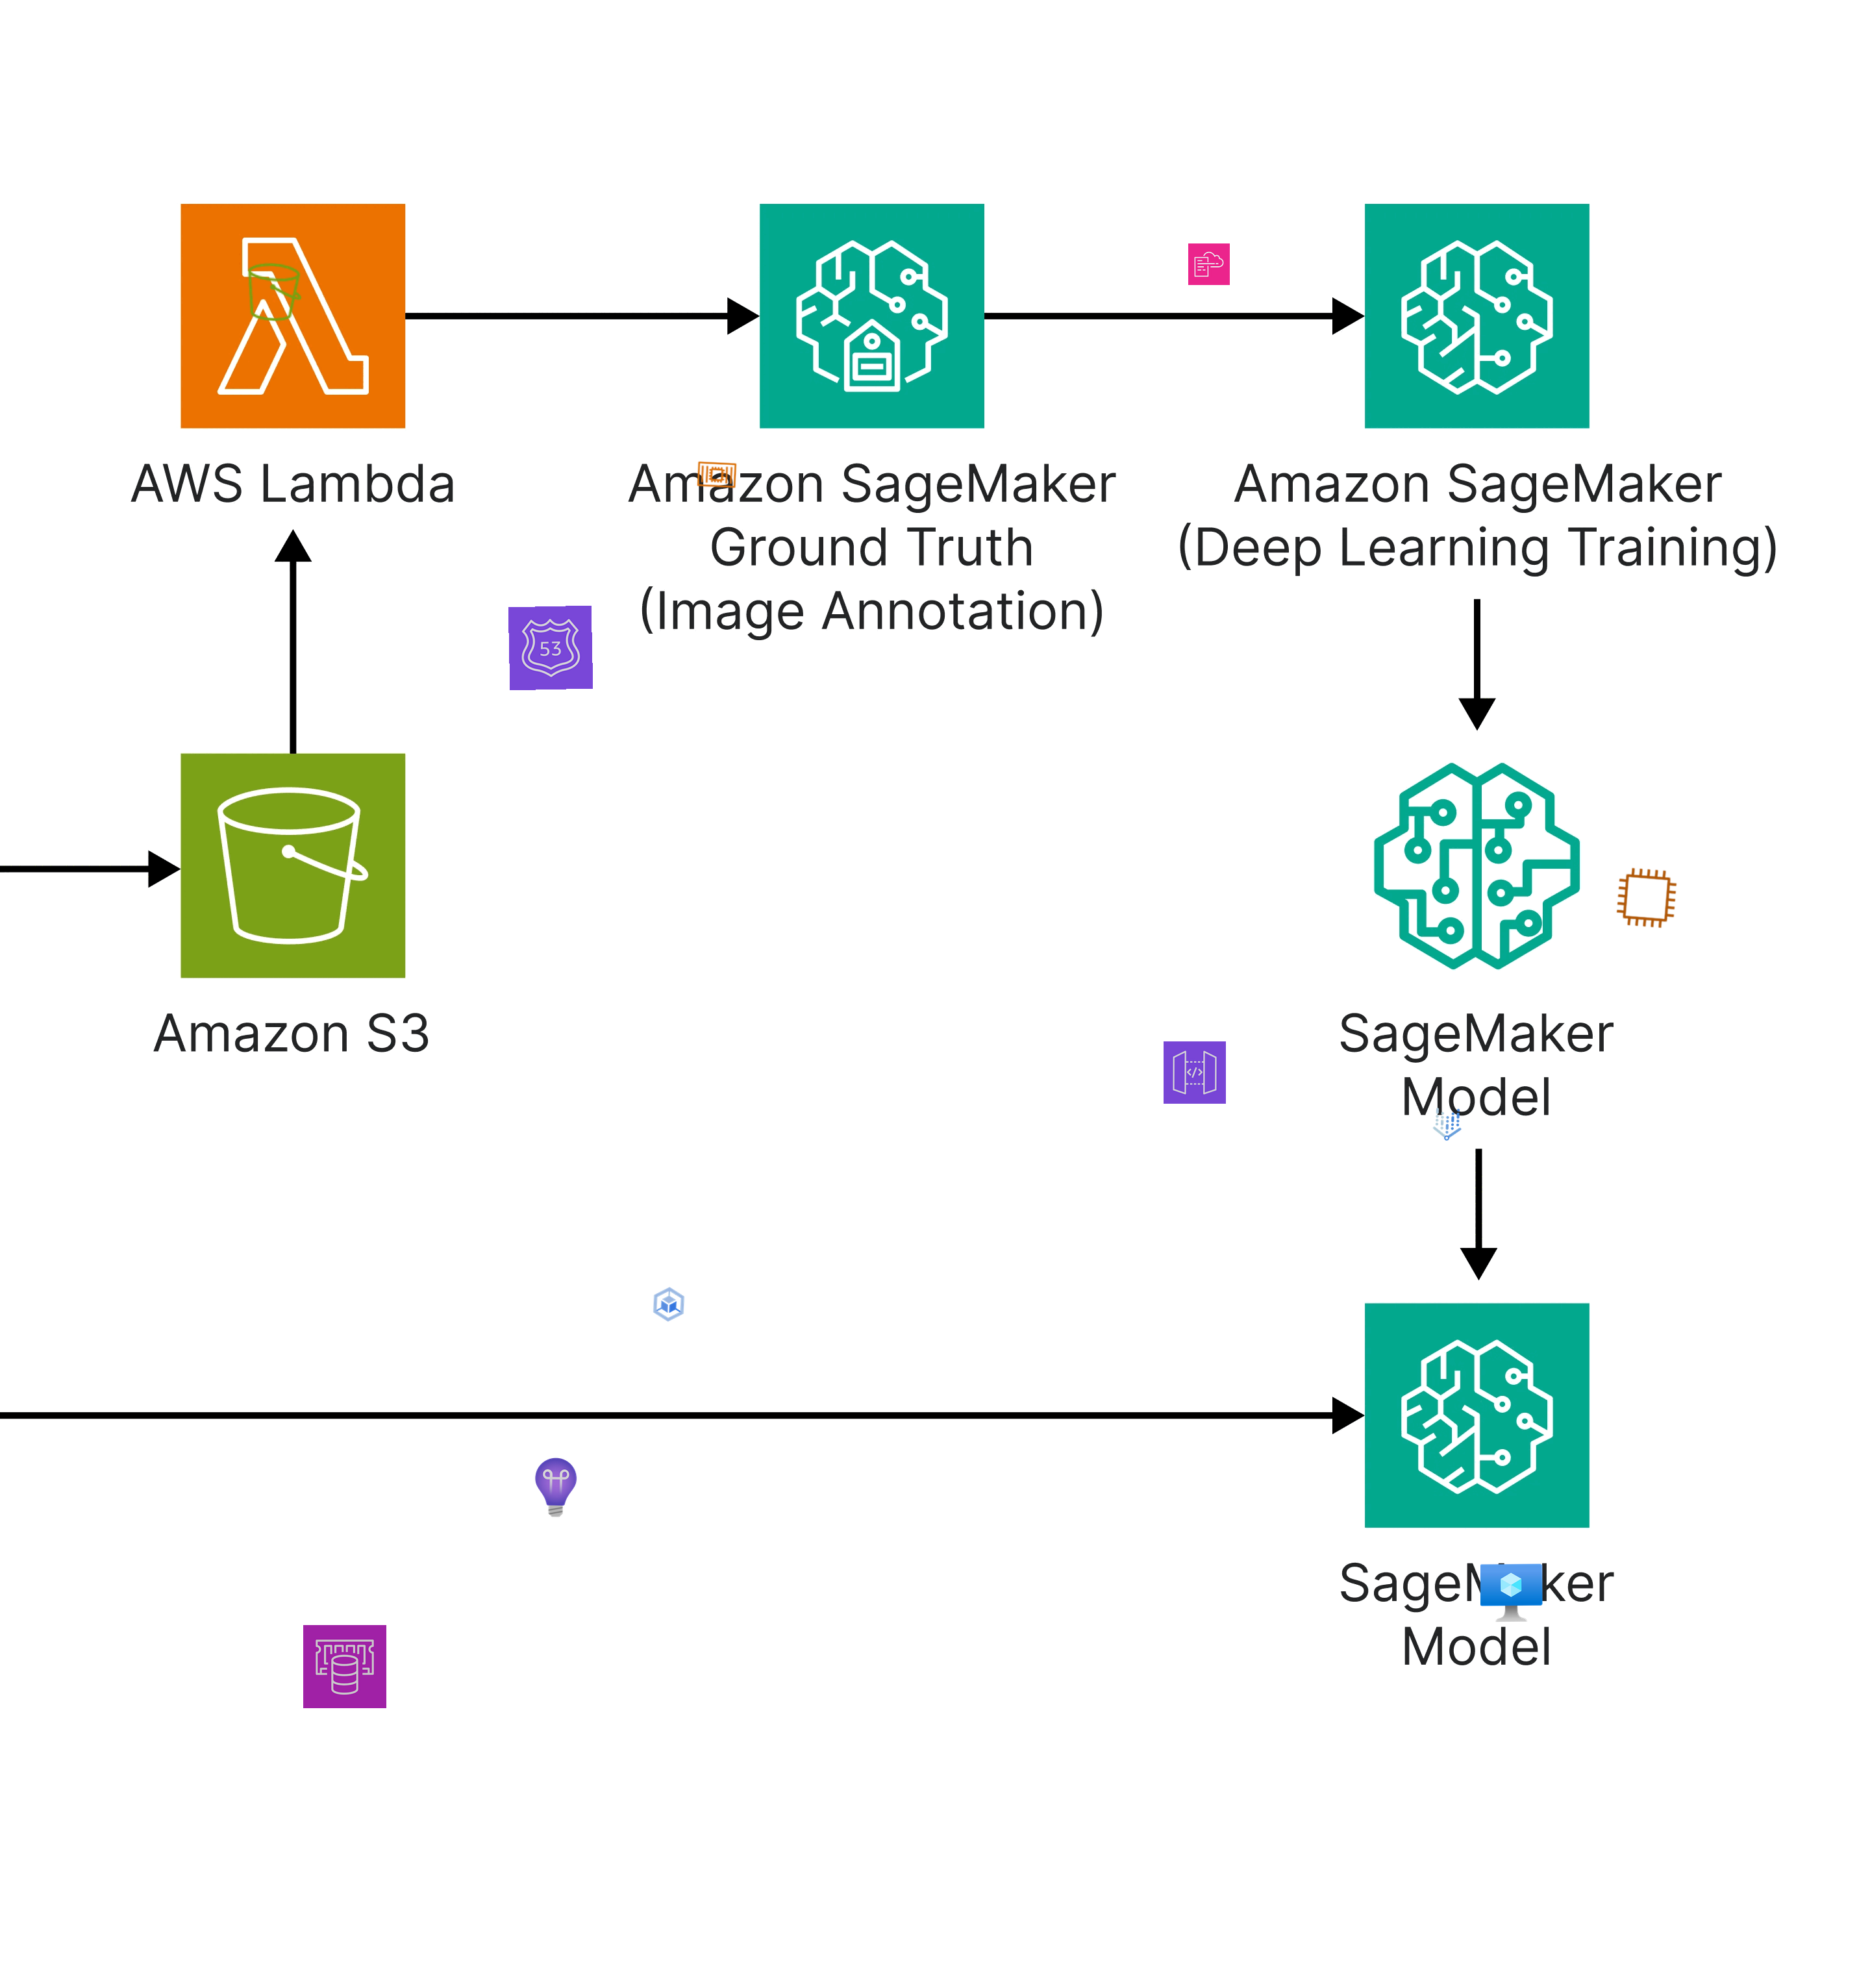aws_amazon_api_gateway: (1163, 1041, 1227, 1104)
aws_amazon_elasticache: (302, 1624, 387, 1709)
aws_amazon_route_53: (508, 605, 594, 691)
aws_cloudformation: (1188, 243, 1230, 287)
aws_ec2_instance: (1613, 865, 1680, 932)
aws_elastic_container_service_container_2: (694, 452, 738, 497)
aws_simple_storage_service_bucket: (241, 258, 308, 325)
azure_application_insights: (524, 1455, 587, 1519)
azure_virtual_machine: (1480, 1563, 1543, 1626)
gcp_google_kubernetes_engine: (647, 1281, 691, 1327)
gcp_vertex_ai: (1425, 1102, 1469, 1146)
